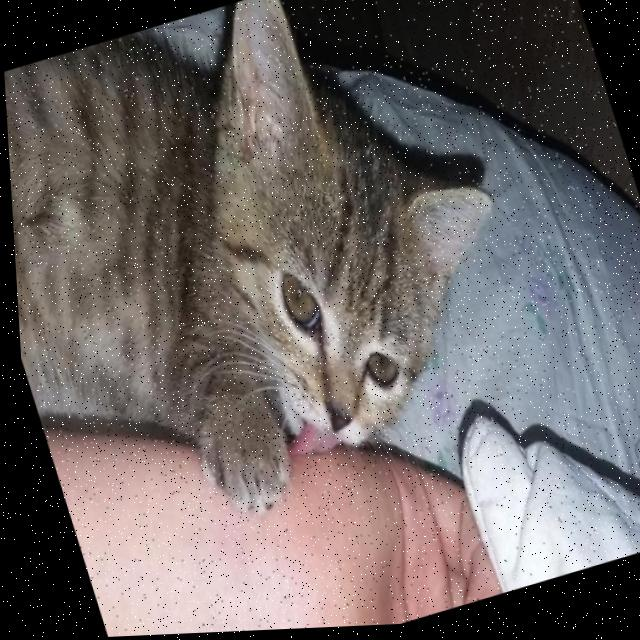Cats: (0, 0, 574, 573)
